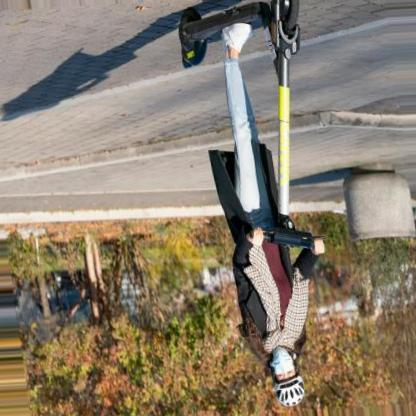scooter: (178, 1, 327, 250)
with helmet: (269, 344, 307, 409)
